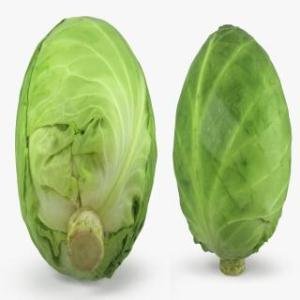cabbage: (14, 12, 158, 286), (171, 23, 293, 285)
